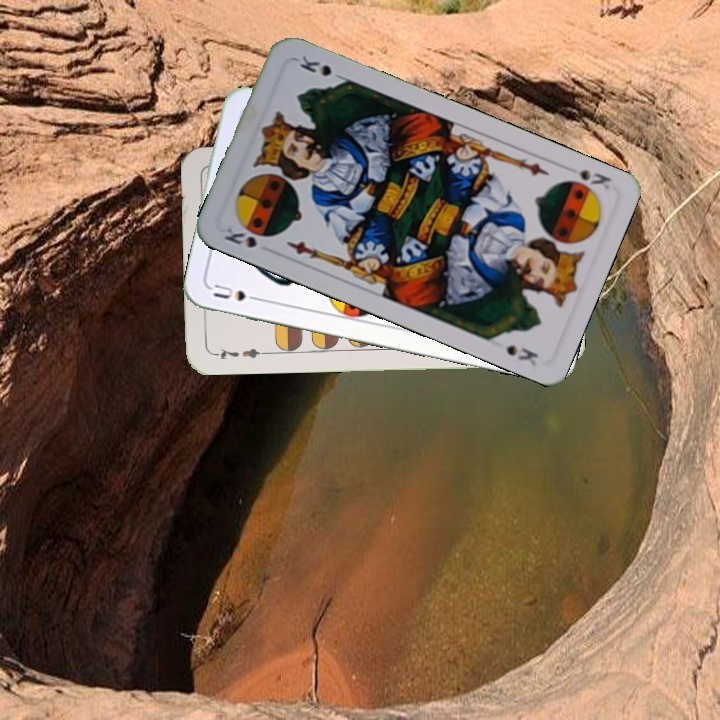E7: (210, 344, 269, 362)
SK: (220, 221, 273, 251), (574, 165, 614, 193)
SU: (209, 280, 266, 304)
